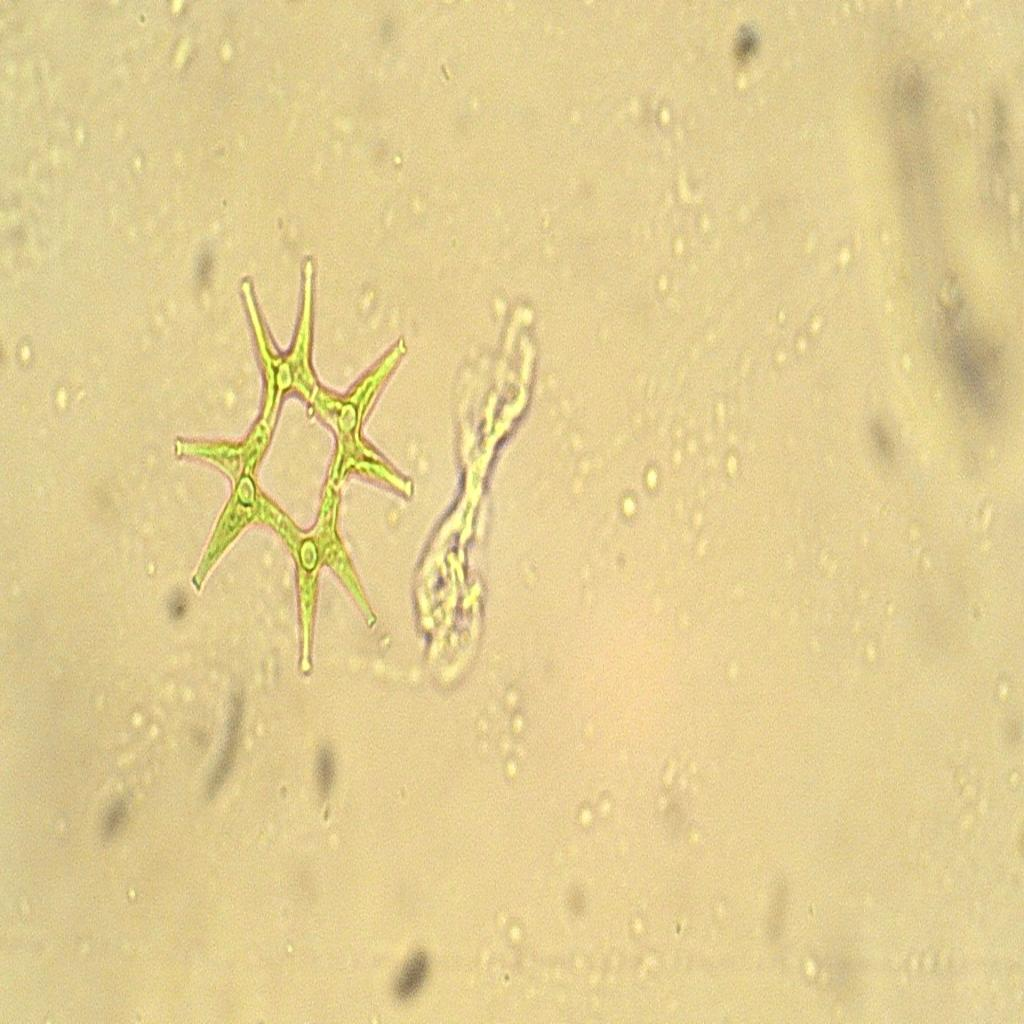Pediastrum_CO: (163, 243, 431, 699)
